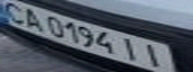0: (39, 14, 66, 38)
1: (57, 18, 81, 44)
4: (93, 28, 118, 55)
9: (75, 24, 96, 48)
A: (18, 6, 48, 33)
C: (0, 1, 30, 25)
I: (139, 40, 172, 70), (115, 34, 145, 63)
